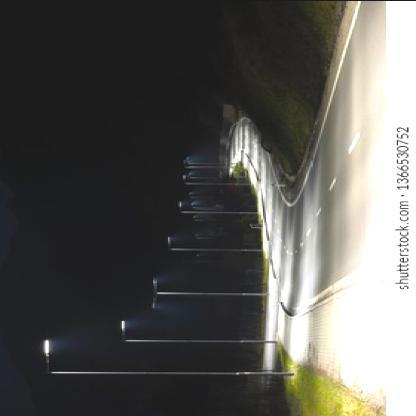on: (95, 259, 170, 362), (3, 332, 107, 387)
